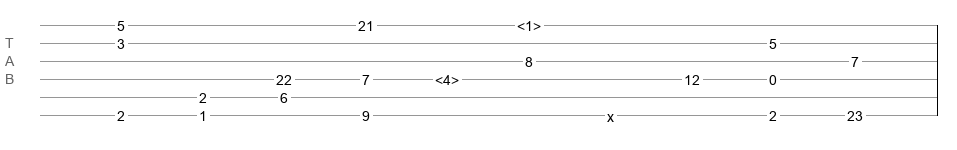0: (769, 72, 777, 82)
1: (199, 108, 207, 118)
12: (684, 72, 700, 82)
2: (117, 108, 125, 118), (199, 90, 207, 100), (769, 108, 777, 118)
21: (358, 18, 374, 28)
22: (276, 72, 292, 82)
23: (847, 108, 863, 118)
3: (117, 36, 125, 46)
5: (117, 18, 125, 28), (769, 36, 777, 46)
6: (280, 90, 288, 100)
7: (362, 72, 370, 82), (851, 54, 859, 64)
8: (525, 54, 533, 64)
9: (362, 108, 370, 118)
harmonic: (435, 72, 459, 82), (517, 18, 541, 28)
x: (607, 109, 614, 117)
